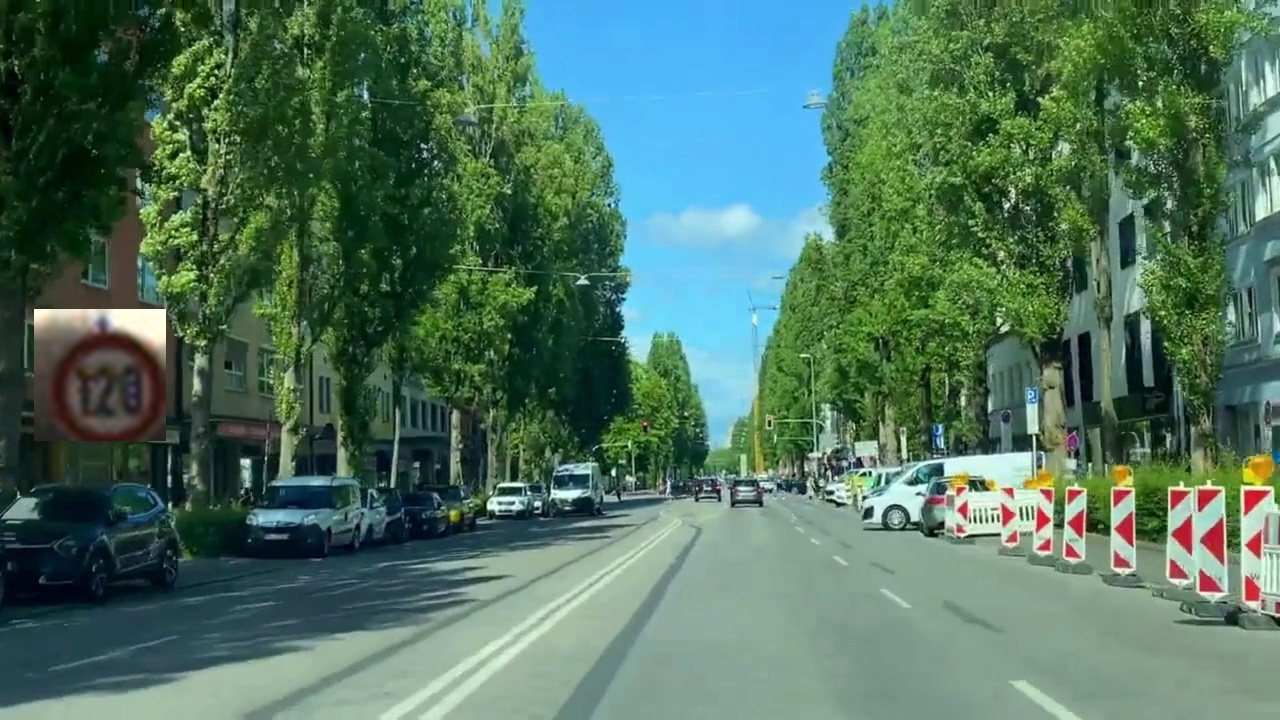Speed 120: (34, 309, 166, 441)
